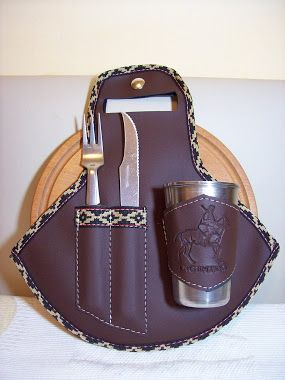cuero: (20, 70, 273, 347)
